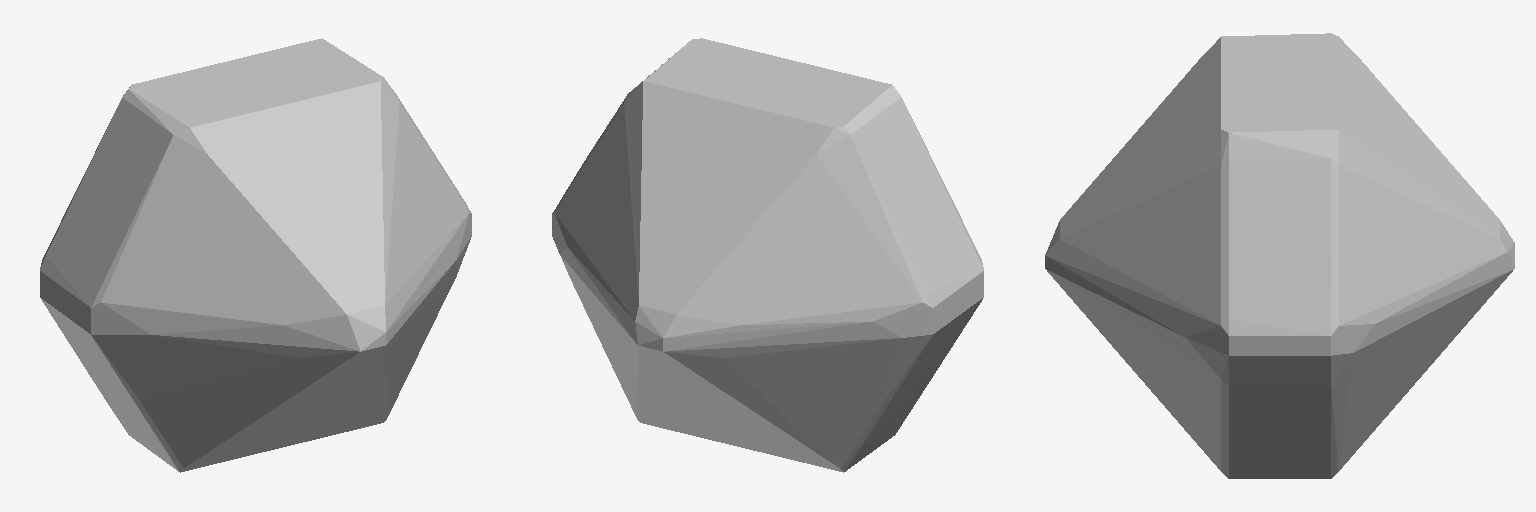
The model's file is Diamond_Hex.obj.
The picture shows the model from 3 angles: view 1: azimuth 30°, elevation 25°; view 2: azimuth 150°, elevation 25°; view 3: azimuth 270°, elevation 25°; orthographic projection.
Visible parts, largest first — view 1: convex_0; view 2: convex_0; view 3: convex_0.
Part boxes in pixels (x1,y1,x2,y2): convex_0: (40, 38, 471, 472); convex_0: (552, 38, 983, 472); convex_0: (1045, 33, 1514, 478).
Bounding box in the file's own units: 29.61 × 25.66 × 31.59.